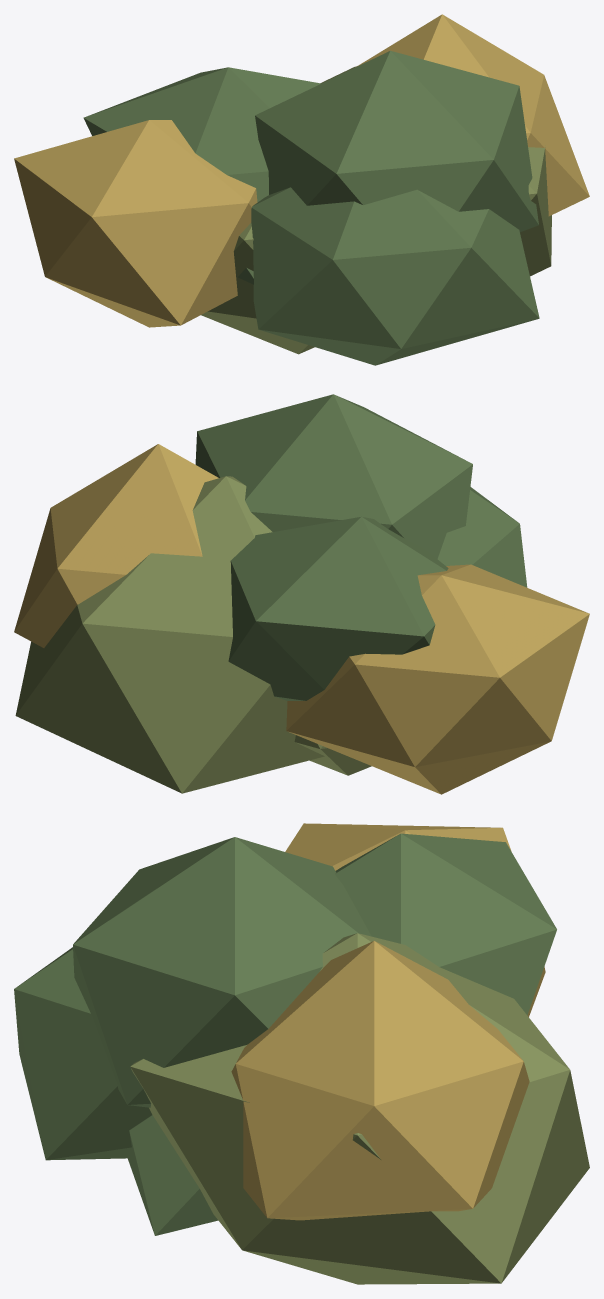
The model's file is bush_2.glb.
The picture shows the model from 3 angles, top to bottom: view 1: azimuth 30°, elevation 25°; view 2: azimuth 150°, elevation 25°; view 3: azimuth 270°, elevation 25°; orthographic projection. The views are drawn at different scales.
Parts seen in each view (by area): view 1: bush_8; view 2: bush_8; view 3: bush_8.
Part boxes in pixels (box(x1,y1,x2,y2)): bush_8: box(14, 14, 589, 365); bush_8: box(14, 394, 589, 794); bush_8: box(14, 823, 589, 1284).
Bounding box in the file's own units: 1.43 × 0.9522 × 1.19.
